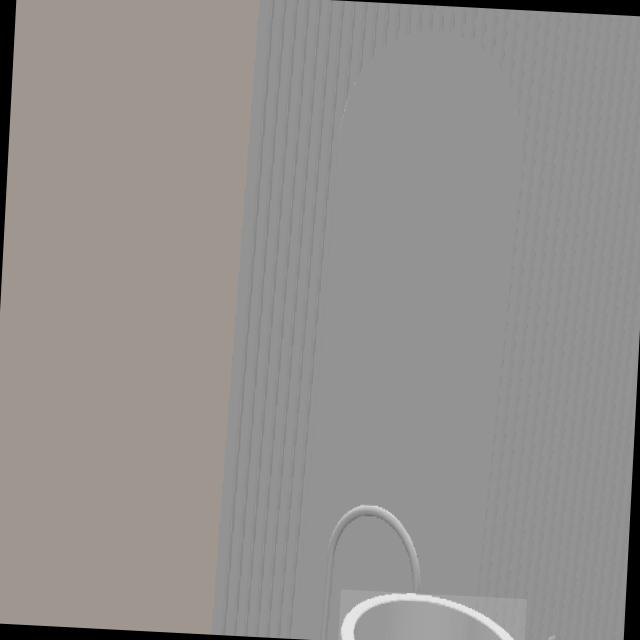washbasin: (338, 592, 515, 640)
